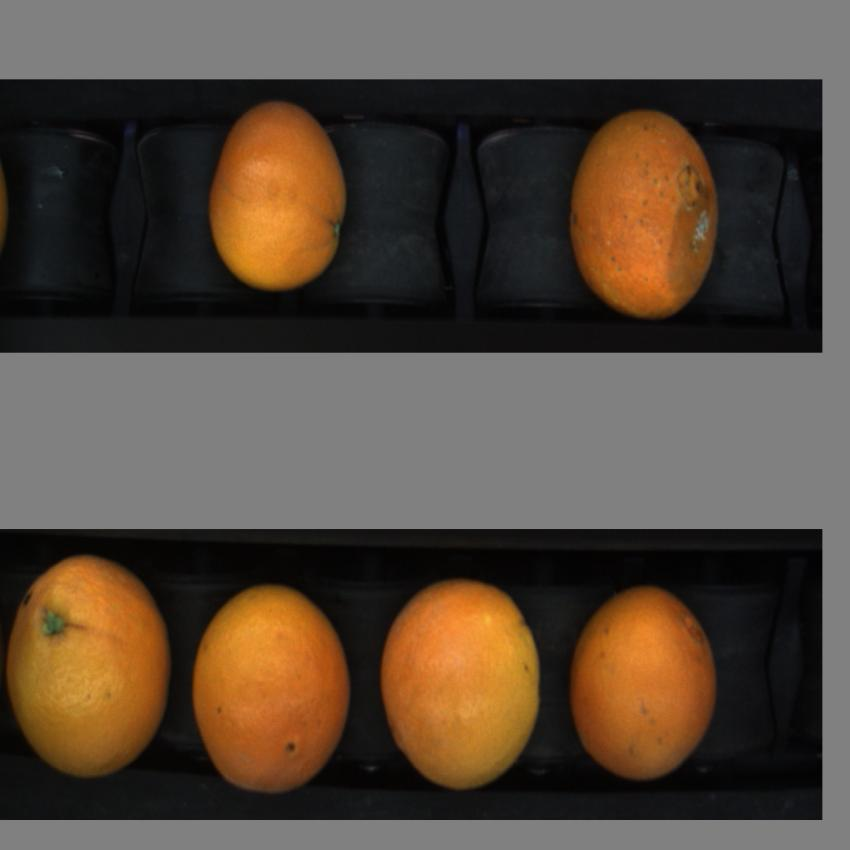Buen estado: (5, 547, 174, 786), (183, 578, 358, 799), (378, 574, 545, 794), (569, 571, 721, 791), (208, 93, 357, 296)
Mal estado: (570, 112, 724, 321)
